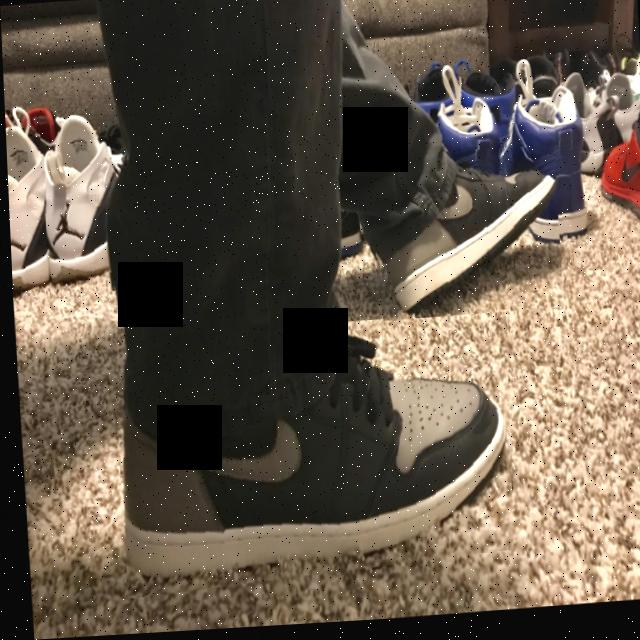shoe: (108, 315, 517, 601), (364, 147, 560, 325), (496, 57, 596, 254), (38, 106, 133, 299), (4, 117, 53, 291), (595, 101, 640, 244), (431, 103, 501, 184)
